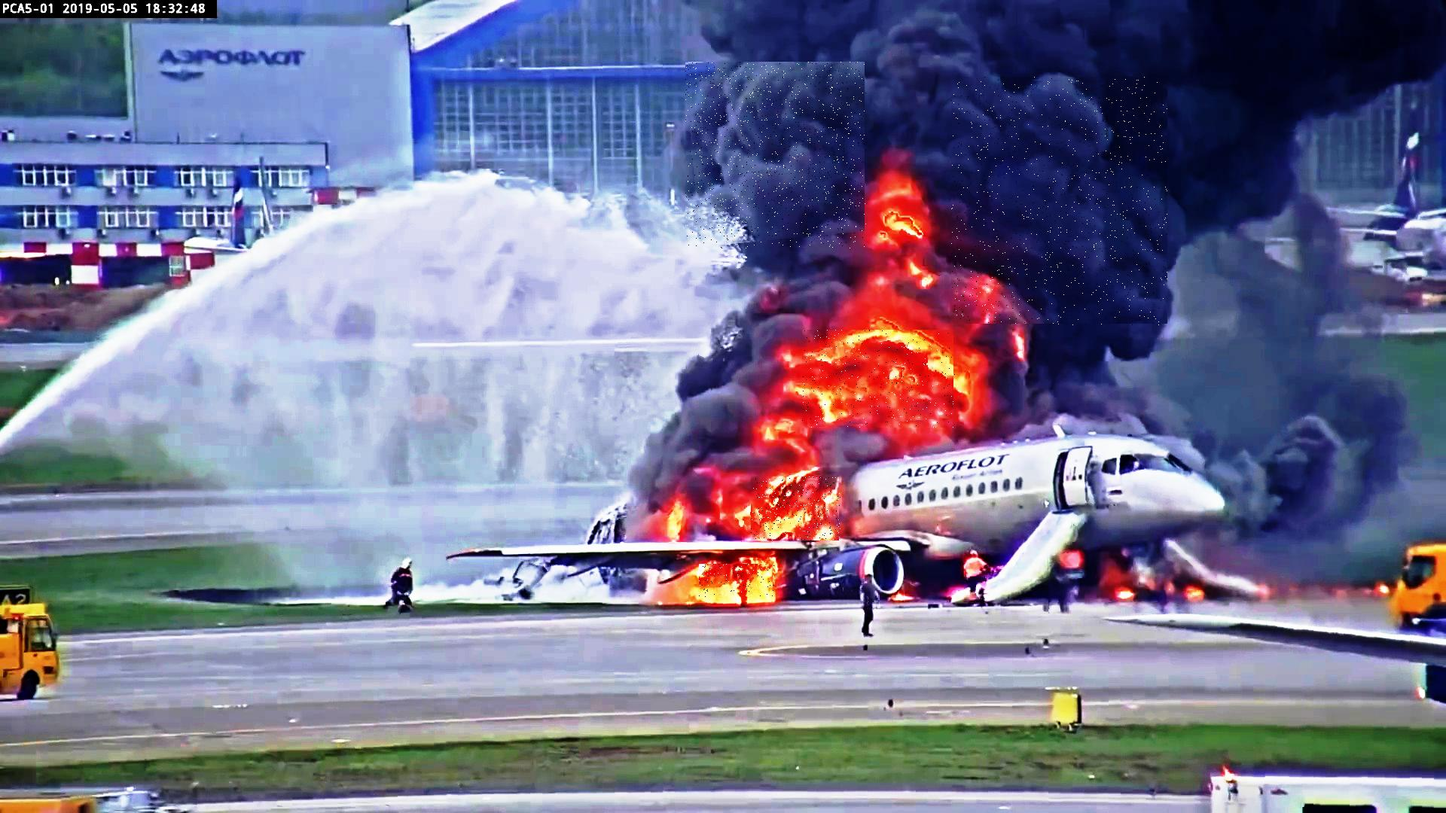fire: (803, 330, 956, 428), (752, 477, 841, 541), (700, 564, 775, 598)
smoke: (951, 77, 1168, 326), (686, 62, 867, 249)
